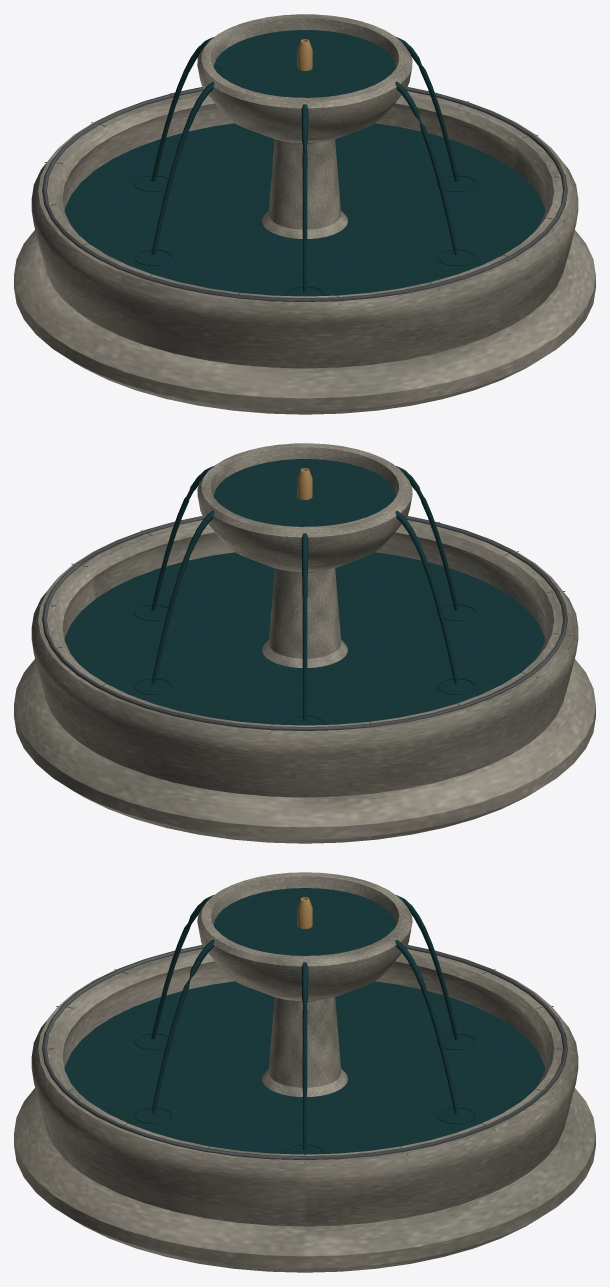
Rendered from fountain.glb.
The picture shows the model from 3 angles, top to bottom: view 1: azimuth 30°, elevation 25°; view 2: azimuth 150°, elevation 25°; view 3: azimuth 270°, elevation 25°; orthographic projection.
Parts seen in each view (by area): view 1: fountain; view 2: fountain; view 3: fountain.
Boxes of the visible parts, x1,y1,x2,y2 form: fountain: [14, 14, 595, 414]; fountain: [14, 443, 595, 843]; fountain: [14, 872, 595, 1272].
Bounding box in the file's own units: 2.16 × 1.05 × 2.16.
Materials: 4 (3 with a texture image).
